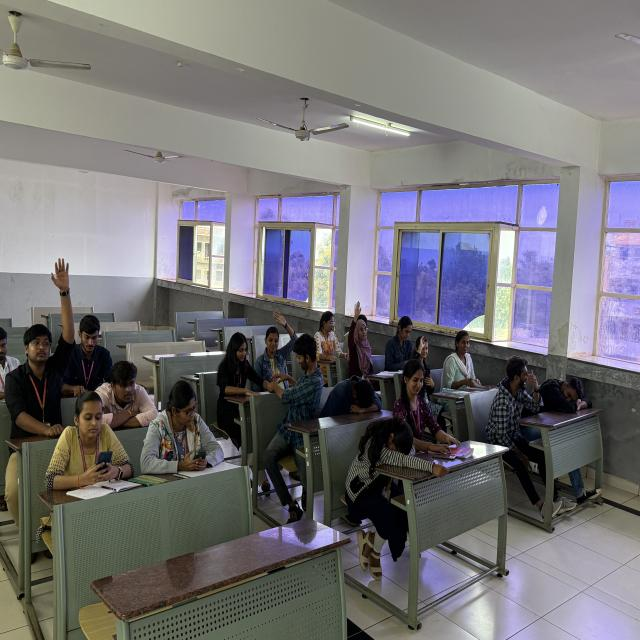Hand Rising: (9, 255, 83, 426), (257, 304, 300, 383), (345, 295, 375, 368)
Sleeping: (339, 414, 447, 493), (94, 364, 165, 429), (533, 369, 600, 430), (321, 370, 386, 418)
Using Phone: (42, 387, 140, 498), (135, 379, 232, 478)
